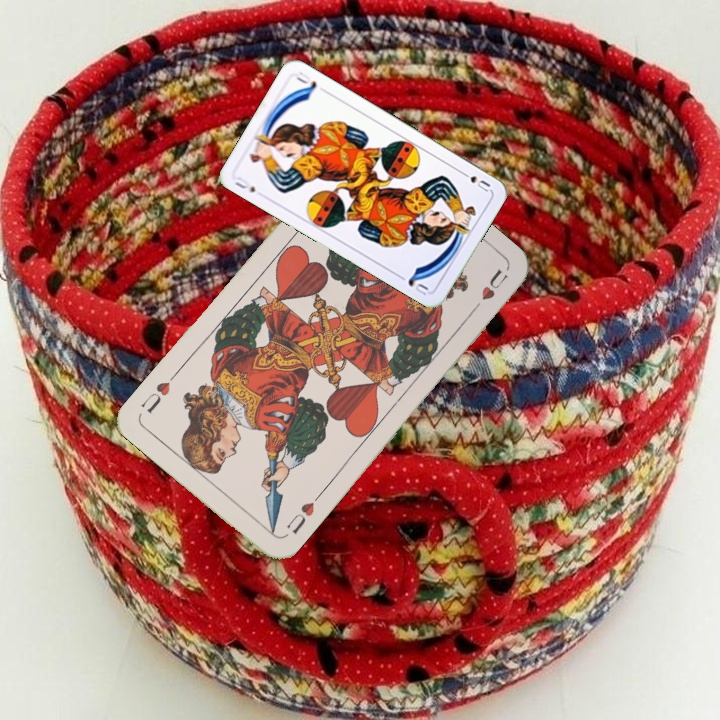HU: (283, 490, 323, 537)
SU: (456, 167, 493, 194), (230, 173, 258, 195)
